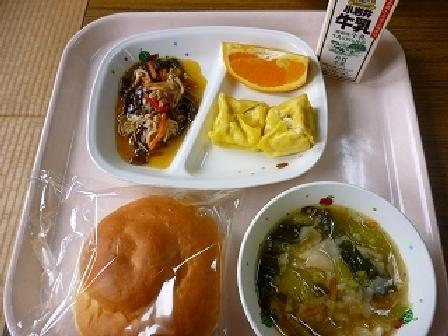Bread: (56, 183, 234, 335)
Citrus: (211, 30, 315, 89)
Milk: (315, 0, 407, 80)
Soups: (246, 193, 426, 331)
manty: (204, 87, 322, 158)
vegetable based cooked food: (101, 48, 199, 154)
